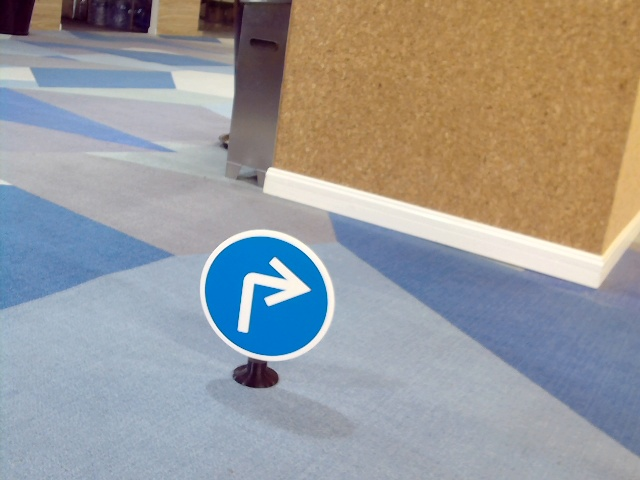turn_right: (229, 261, 311, 337)
